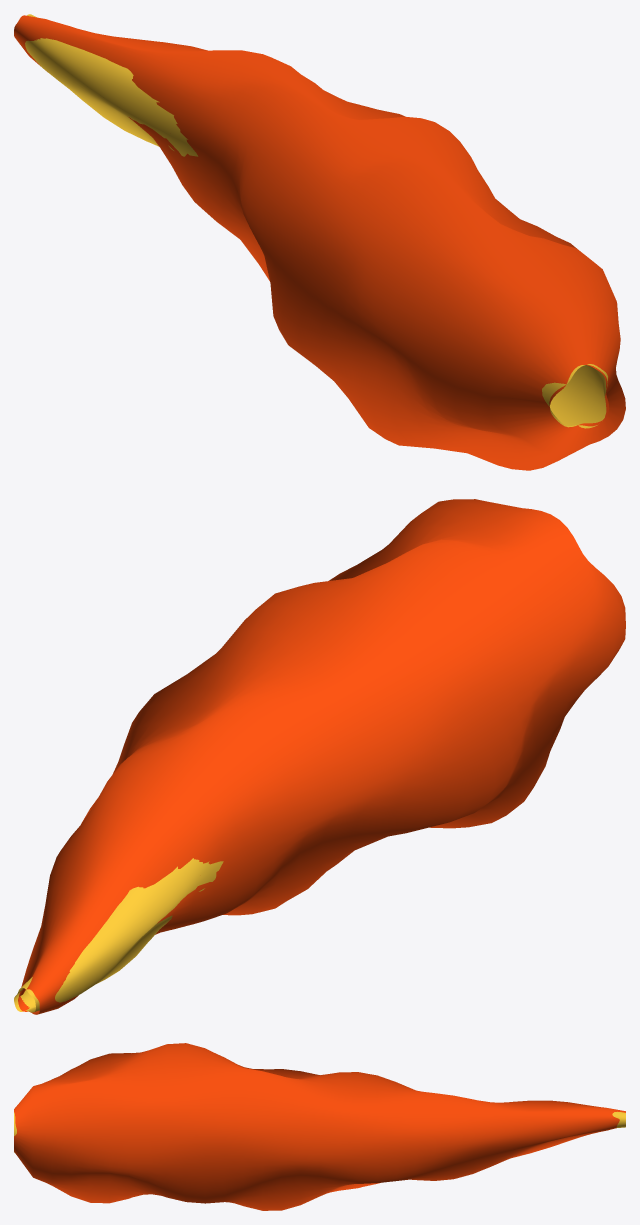
File: flame_volume_v2_2.dae
The picture shows the model from 3 angles, top to bottom: view 1: azimuth 30°, elevation 25°; view 2: azimuth 150°, elevation 25°; view 3: azimuth 270°, elevation 25°; orthographic projection. The views are drawn at different scales.
Visible parts, largest first — view 1: iaf_shell, iaf_core_mesh; view 2: iaf_shell, iaf_core_mesh; view 3: iaf_shell.
Part boxes in pixels (x1,y1,x2,y2): iaf_shell: [14, 15, 625, 470]; iaf_core_mesh: [25, 14, 607, 428]; iaf_shell: [18, 499, 625, 1014]; iaf_core_mesh: [14, 858, 223, 1012]; iaf_shell: [14, 1043, 625, 1210].
Bounding box in the file's own units: 0.2118 × 0.8 × 0.2112.
